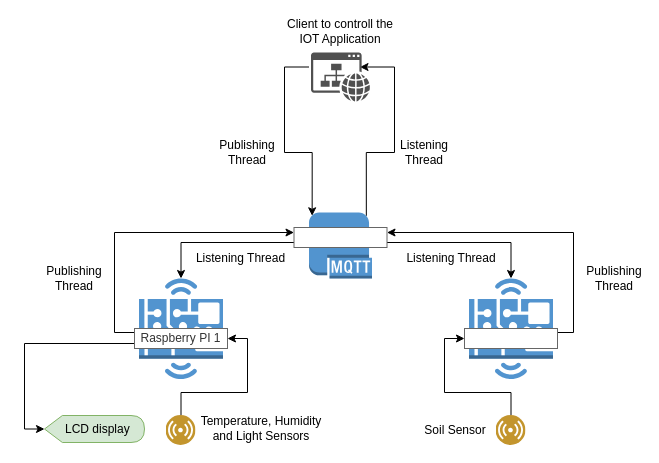
Some shapes in this 659 by 463 pixel diagram are drawn without their labels. Here are the shapes that lost their labels. From the top down, the centre of each, then its label:
[340,237]: HiveMQ
[511,338]: Raspberry PI 2
